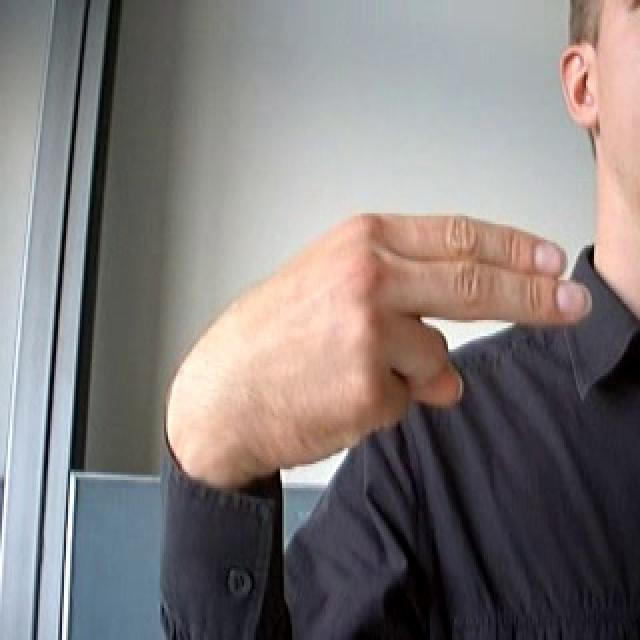H: (128, 180, 600, 486)
